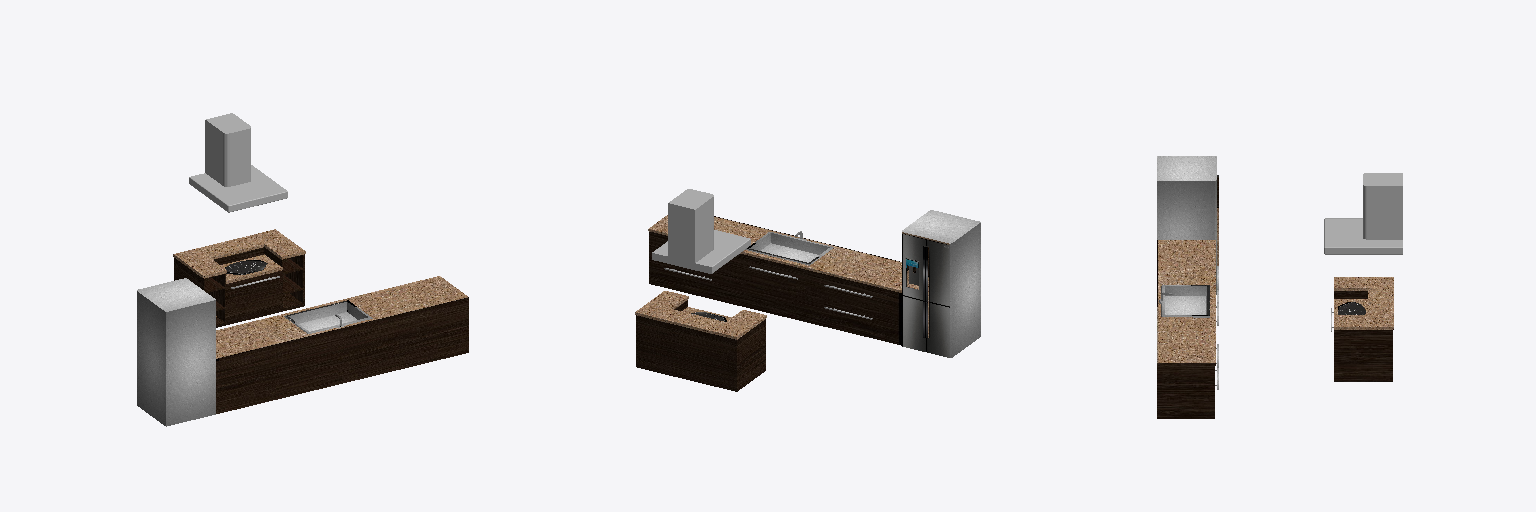
3 views of the same model, side by side, from view 1: azimuth 30°, elevation 25°; view 2: azimuth 150°, elevation 25°; view 3: azimuth 270°, elevation 25° (orthographic).
Parts seen in each view (by area): view 1: Mesh1 G_3DGeom_2 Group2 Group1 Model, Mesh2 G_3DGeom_1 Group2 Group1 Model, Mesh3 Group4 Group3 Group1 Model, Mesh4 Group5 Group3 Group1 Model; view 2: Mesh1 G_3DGeom_2 Group2 Group1 Model, Mesh2 G_3DGeom_1 Group2 Group1 Model, Mesh3 Group4 Group3 Group1 Model, Mesh4 Group5 Group3 Group1 Model; view 3: Mesh1 G_3DGeom_2 Group2 Group1 Model, Mesh2 G_3DGeom_1 Group2 Group1 Model, Mesh3 Group4 Group3 Group1 Model, Mesh4 Group5 Group3 Group1 Model.
Boxes of the visible parts, <box> form: Mesh1 G_3DGeom_2 Group2 Group1 Model: <box>137,276,468,426</box>; Mesh2 G_3DGeom_1 Group2 Group1 Model: <box>173,229,305,327</box>; Mesh3 Group4 Group3 Group1 Model: <box>205,113,250,186</box>; Mesh4 Group5 Group3 Group1 Model: <box>189,165,287,212</box>; Mesh1 G_3DGeom_2 Group2 Group1 Model: <box>648,210,980,357</box>; Mesh2 G_3DGeom_1 Group2 Group1 Model: <box>635,291,766,391</box>; Mesh3 Group4 Group3 Group1 Model: <box>668,189,713,262</box>; Mesh4 Group5 Group3 Group1 Model: <box>652,230,750,273</box>; Mesh1 G_3DGeom_2 Group2 Group1 Model: <box>1157,156,1218,418</box>; Mesh2 G_3DGeom_1 Group2 Group1 Model: <box>1331,277,1393,381</box>; Mesh3 Group4 Group3 Group1 Model: <box>1363,173,1402,239</box>; Mesh4 Group5 Group3 Group1 Model: <box>1324,218,1402,254</box>.
Bounding box in the file's own units: 905 × 505 × 636.
Materials: 2 (1 with a texture image).